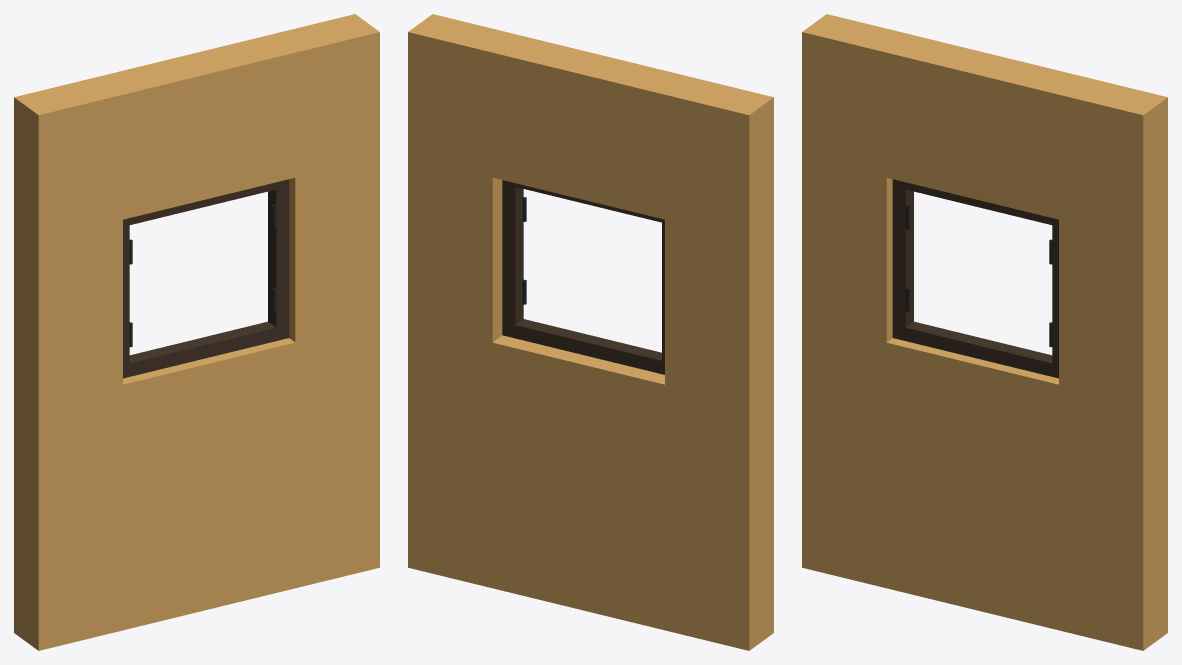
The model's file is SM_Wall_WindowBay_Flush_01.fbx.
The picture shows the model from 3 angles, left to right: view 1: azimuth 30°, elevation 25°; view 2: azimuth 150°, elevation 25°; view 3: azimuth 330°, elevation 25°; orthographic projection.
Visible parts, largest first — view 1: SM_Wall_WindowBay_Flush_01; view 2: SM_Wall_WindowBay_Flush_01; view 3: SM_Wall_WindowBay_Flush_01.
Boxes of the visible parts, <box> form: SM_Wall_WindowBay_Flush_01: <box>14,14,379,650</box>; SM_Wall_WindowBay_Flush_01: <box>408,14,773,650</box>; SM_Wall_WindowBay_Flush_01: <box>802,14,1167,650</box>.
Bounding box in the file's own units: 2 × 3 × 0.25.
1 material, 1 textured.
